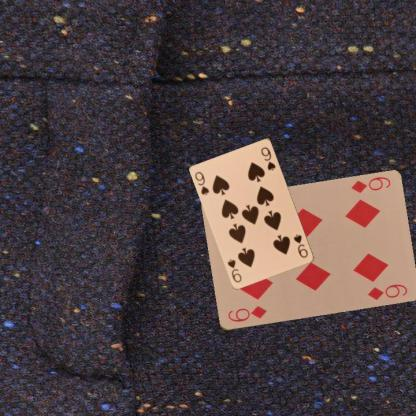6d: (348, 174, 392, 195), (224, 304, 268, 324)
9s: (192, 170, 211, 196), (291, 232, 309, 259)
